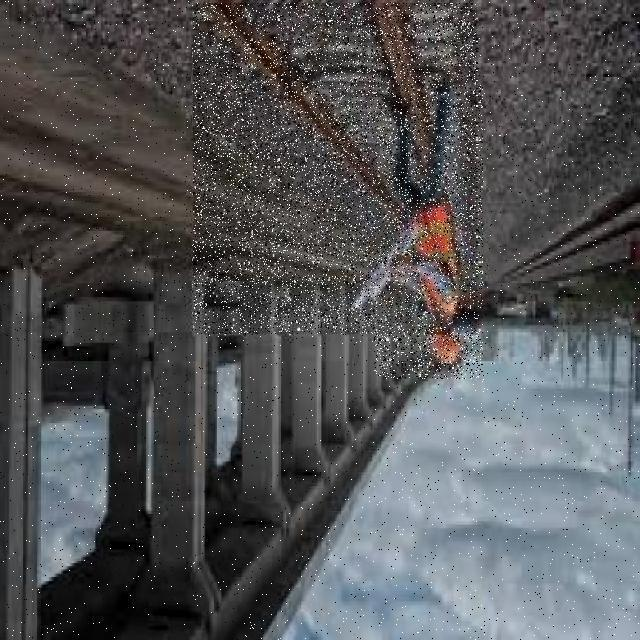rail: (195, 4, 478, 335)
